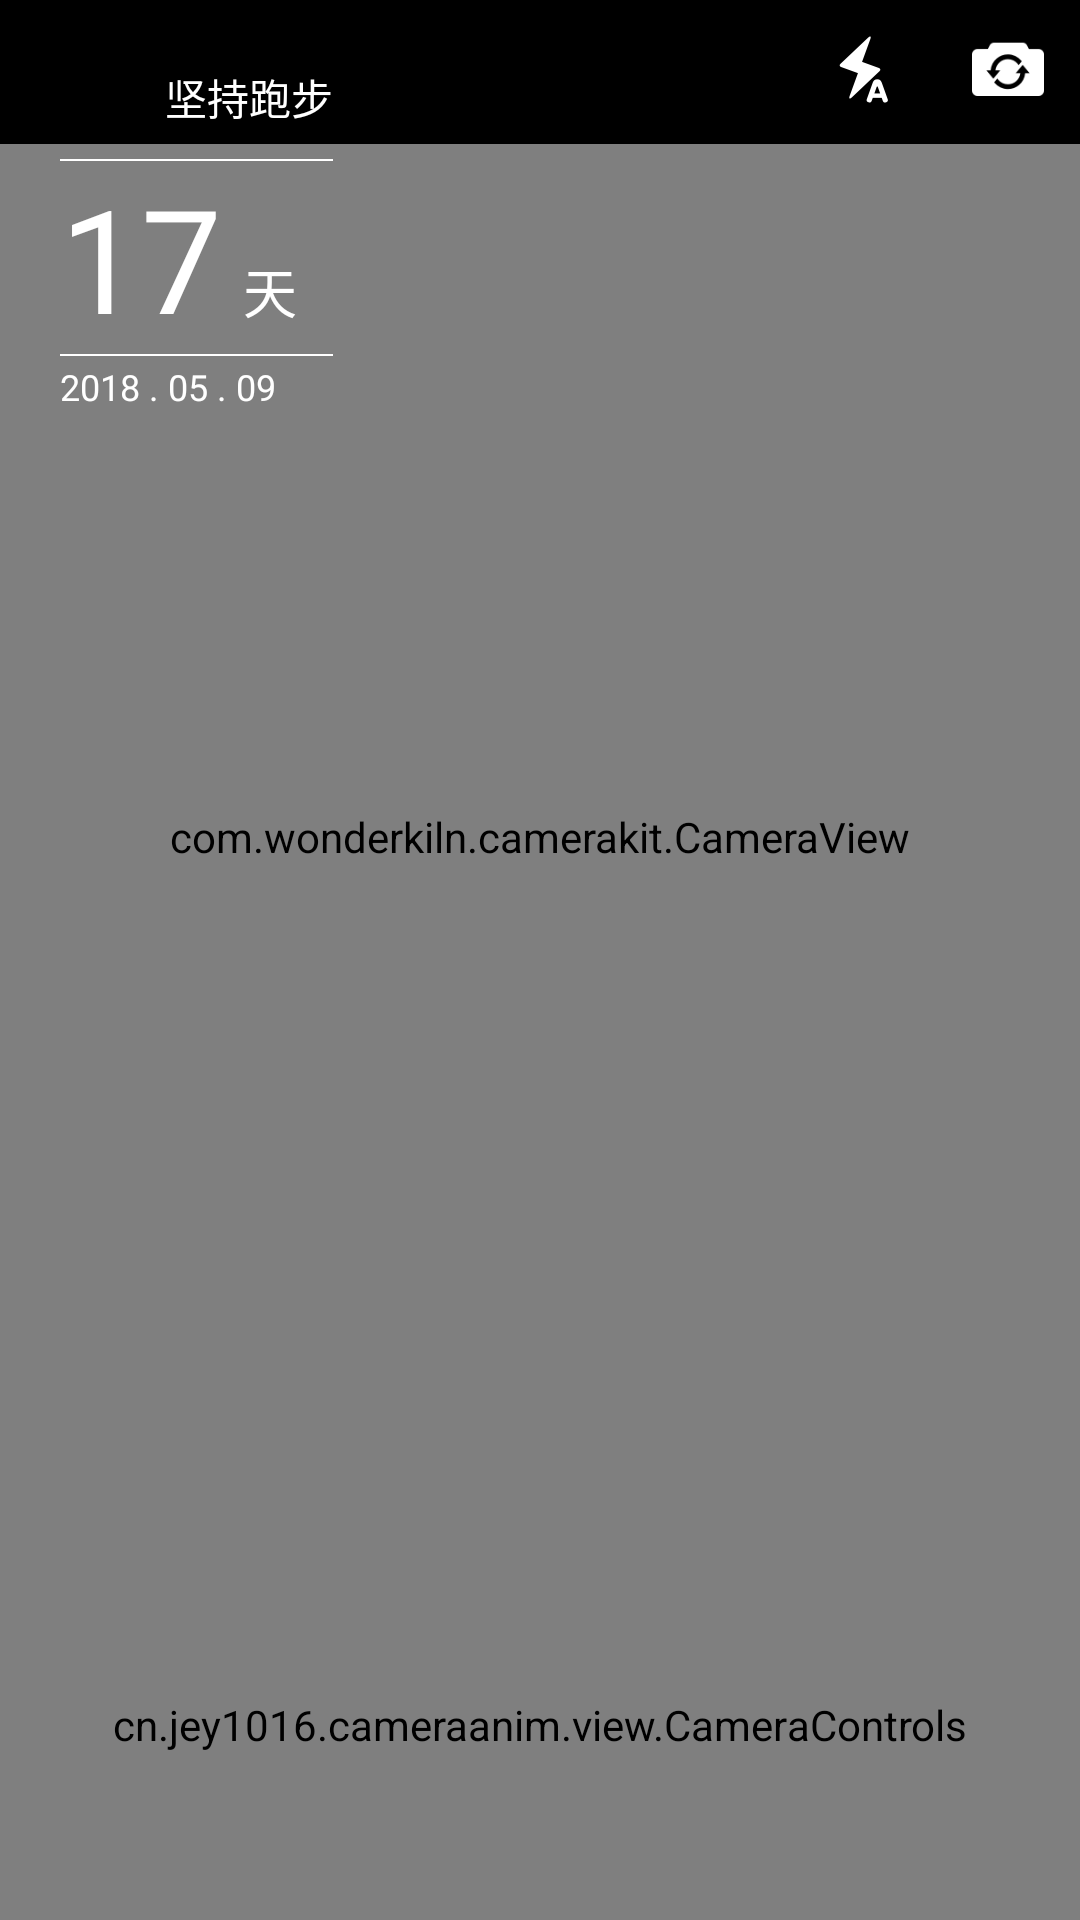

Locate icon controls on the screen. Image size 1080×1920, boxes as (x1, y1, x2, y2).
facing change: (972, 42, 1044, 96)
flash auto: (839, 36, 888, 103)
